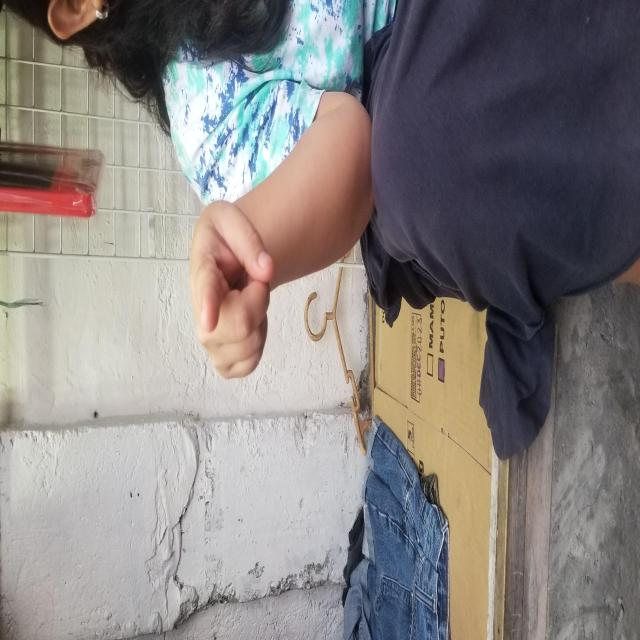Z: (176, 192, 284, 396)
